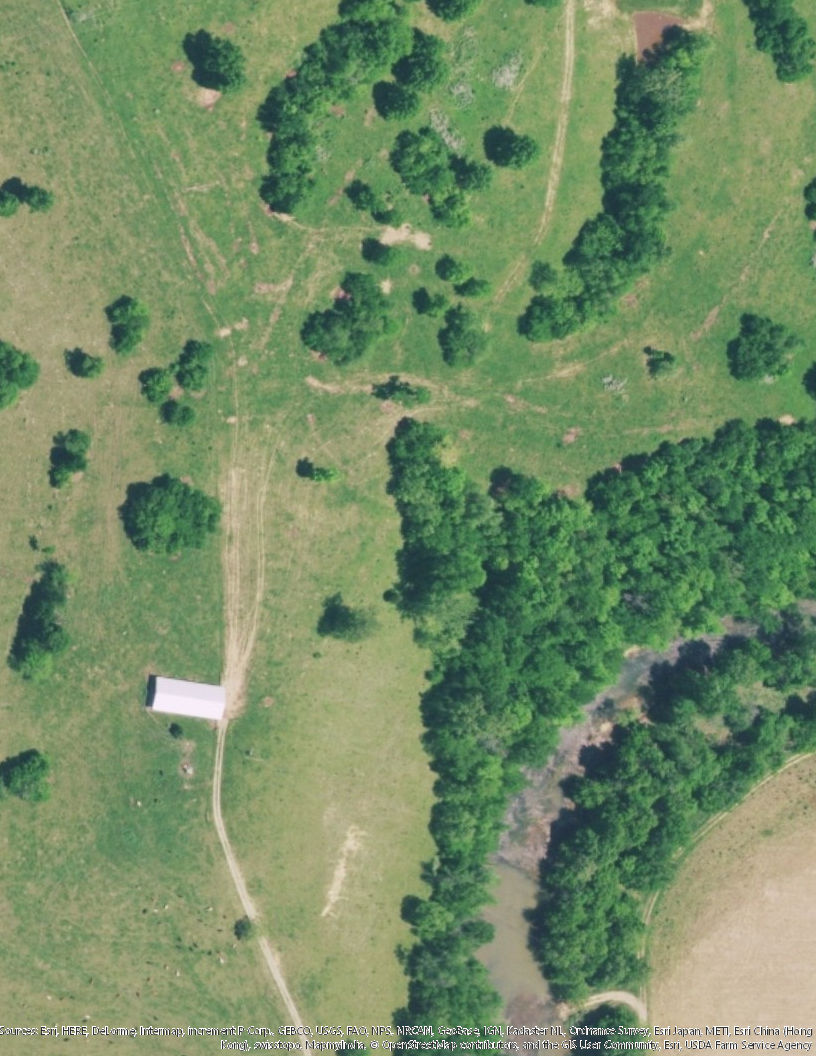cafo: (145, 673, 233, 728)
